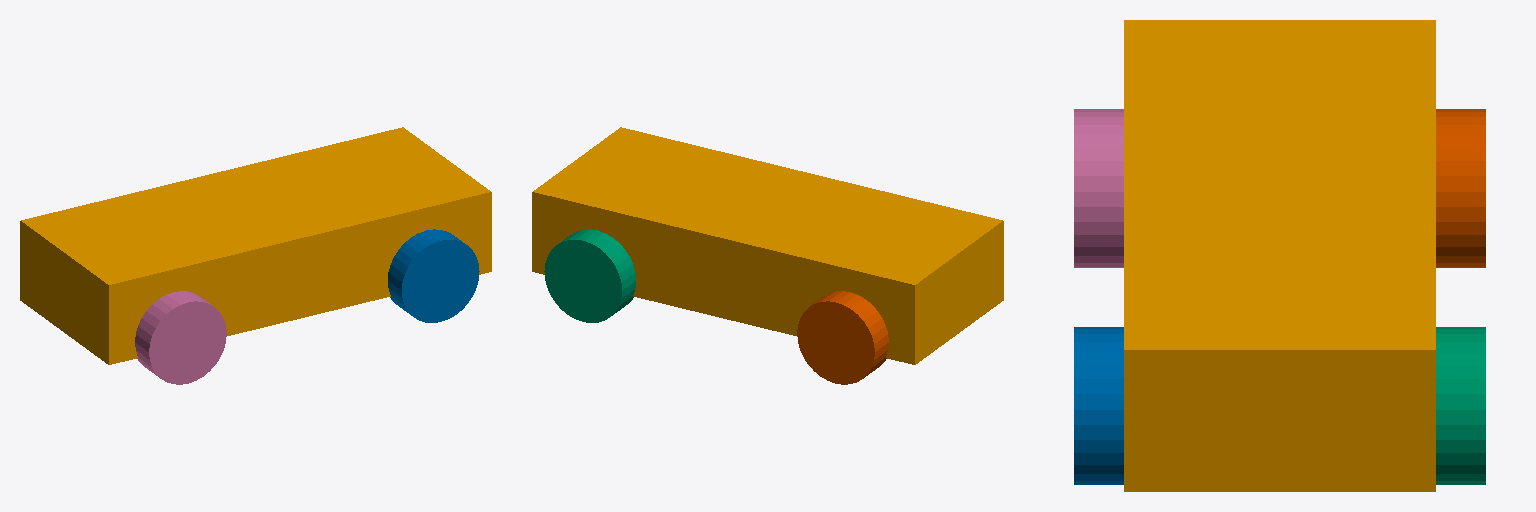
URDF robot description (racecar):
<?xml version="1.0" ?>
<robot name="racecar">
  <!-- GENERATED by tools/gen_racecar_urdf.py : do not edit by hand.
       Frame: REP-103 (+x forward, +y left). base_link = rear axle center at ground (z=0).
       Spawn base_link at z=0 and the wheels sit exactly on the ground.
       LiDAR is NOT a link: attach Isaac Lab RayCaster to base_link with
       offset=(0.27, 0.0, 0.11)  [stack_master/config/CAR/static_transforms.yaml].
       Steering hinges intentionally carry NO collision geometry : a knuckle
       must never generate contacts. Mass/inertia only.
       Tire friction is NOT in URDF. Set it in Isaac Lab RigidBodyMaterialCfg
       that is where the mu domain randomization goes. -->
  <link name="base_link">
    <inertial>
      <origin xyz="0.166888 0 0.076853" rpy="0 0 0"/>
      <mass value="3.090000"/>
      <inertia ixx="0.01091800" ixy="0" ixz="0" iyy="0.02605204" iyz="0" izz="0.03182004"/>
    </inertial>
    <visual>
      <origin xyz="0.165 0 0.08" rpy="0 0 0"/>
      <geometry>
        <box size="0.5 0.2 0.1"/>
      </geometry>
    </visual>
    <collision>
      <origin xyz="0.165 0 0.08" rpy="0 0 0"/>
      <geometry>
        <box size="0.5 0.2 0.1"/>
      </geometry>
    </collision>
  </link>
  <link name="front_left_hinge">
    <inertial>
      <origin xyz="0 0 0" rpy="0 0 0"/>
      <mass value="0.050000"/>
      <inertia ixx="0.00001333" ixy="0" ixz="0" iyy="0.00001333" iyz="0" izz="0.00001333"/>
    </inertial>
  </link>
  <joint name="front_left_hinge_joint" type="revolute">
    <parent link="base_link"/>
    <child link="front_left_hinge"/>
    <origin xyz="0.3302 0.112750 0.0508" rpy="0 0 0"/>
    <axis xyz="0 0 1"/>
    <limit lower="-0.4189" upper="0.4189" effort="5.0" velocity="3.2"/>
  </joint>
  <link name="front_left_wheel">
    <inertial>
      <origin xyz="0 0 0" rpy="0 0 0"/>
      <mass value="0.070000"/>
      <inertia ixx="0.00005363" ixy="0" ixz="0" iyy="0.00009032" iyz="0" izz="0.00005363"/>
    </inertial>
    <visual>
      <origin xyz="0 0 0" rpy="1.5707963 0 0"/>
      <geometry>
        <cylinder radius="0.0508" length="0.0381"/>
      </geometry>
    </visual>
    <collision>
      <origin xyz="0 0 0" rpy="1.5707963 0 0"/>
      <geometry>
        <cylinder radius="0.0508" length="0.0381"/>
      </geometry>
    </collision>
  </link>
  <joint name="front_left_wheel_joint" type="continuous">
    <parent link="front_left_hinge"/>
    <child link="front_left_wheel"/>
    <origin xyz="0.0 0.0 0.0" rpy="0 0 0"/>
    <axis xyz="0 1 0"/>
    <limit effort="1.257" velocity="196.85"/>
  </joint>
  <link name="front_right_hinge">
    <inertial>
      <origin xyz="0 0 0" rpy="0 0 0"/>
      <mass value="0.050000"/>
      <inertia ixx="0.00001333" ixy="0" ixz="0" iyy="0.00001333" iyz="0" izz="0.00001333"/>
    </inertial>
  </link>
  <joint name="front_right_hinge_joint" type="revolute">
    <parent link="base_link"/>
    <child link="front_right_hinge"/>
    <origin xyz="0.3302 -0.112750 0.0508" rpy="0 0 0"/>
    <axis xyz="0 0 1"/>
    <limit lower="-0.4189" upper="0.4189" effort="5.0" velocity="3.2"/>
  </joint>
  <link name="front_right_wheel">
    <inertial>
      <origin xyz="0 0 0" rpy="0 0 0"/>
      <mass value="0.070000"/>
      <inertia ixx="0.00005363" ixy="0" ixz="0" iyy="0.00009032" iyz="0" izz="0.00005363"/>
    </inertial>
    <visual>
      <origin xyz="0 0 0" rpy="1.5707963 0 0"/>
      <geometry>
        <cylinder radius="0.0508" length="0.0381"/>
      </geometry>
    </visual>
    <collision>
      <origin xyz="0 0 0" rpy="1.5707963 0 0"/>
      <geometry>
        <cylinder radius="0.0508" length="0.0381"/>
      </geometry>
    </collision>
  </link>
  <joint name="front_right_wheel_joint" type="continuous">
    <parent link="front_right_hinge"/>
    <child link="front_right_wheel"/>
    <origin xyz="0.0 0.0 0.0" rpy="0 0 0"/>
    <axis xyz="0 1 0"/>
    <limit effort="1.257" velocity="196.85"/>
  </joint>
  <link name="rear_left_wheel">
    <inertial>
      <origin xyz="0 0 0" rpy="0 0 0"/>
      <mass value="0.070000"/>
      <inertia ixx="0.00005363" ixy="0" ixz="0" iyy="0.00009032" iyz="0" izz="0.00005363"/>
    </inertial>
    <visual>
      <origin xyz="0 0 0" rpy="1.5707963 0 0"/>
      <geometry>
        <cylinder radius="0.0508" length="0.0381"/>
      </geometry>
    </visual>
    <collision>
      <origin xyz="0 0 0" rpy="1.5707963 0 0"/>
      <geometry>
        <cylinder radius="0.0508" length="0.0381"/>
      </geometry>
    </collision>
  </link>
  <joint name="rear_left_wheel_joint" type="continuous">
    <parent link="base_link"/>
    <child link="rear_left_wheel"/>
    <origin xyz="0.0 0.11275 0.0508" rpy="0 0 0"/>
    <axis xyz="0 1 0"/>
    <limit effort="1.257" velocity="196.85"/>
  </joint>
  <link name="rear_right_wheel">
    <inertial>
      <origin xyz="0 0 0" rpy="0 0 0"/>
      <mass value="0.070000"/>
      <inertia ixx="0.00005363" ixy="0" ixz="0" iyy="0.00009032" iyz="0" izz="0.00005363"/>
    </inertial>
    <visual>
      <origin xyz="0 0 0" rpy="1.5707963 0 0"/>
      <geometry>
        <cylinder radius="0.0508" length="0.0381"/>
      </geometry>
    </visual>
    <collision>
      <origin xyz="0 0 0" rpy="1.5707963 0 0"/>
      <geometry>
        <cylinder radius="0.0508" length="0.0381"/>
      </geometry>
    </collision>
  </link>
  <joint name="rear_right_wheel_joint" type="continuous">
    <parent link="base_link"/>
    <child link="rear_right_wheel"/>
    <origin xyz="0.0 -0.11275 0.0508" rpy="0 0 0"/>
    <axis xyz="0 1 0"/>
    <limit effort="1.257" velocity="196.85"/>
  </joint>
</robot>

--- Facts derived from the render (not from the file) ---
Views: 3 orthographic renders of the robot side by side, from view 1: azimuth 30°, elevation 25°; view 2: azimuth 150°, elevation 25°; view 3: azimuth 270°, elevation 25°.
Model racecar with 7 links and 6 joints (2 revolute, 4 continuous), rooted at base_link, posed every joint at zero.
Links seen in each view (by area): view 1: base_link, front_right_wheel, rear_right_wheel; view 2: base_link, front_left_wheel, rear_left_wheel; view 3: base_link, rear_left_wheel, rear_right_wheel, front_left_wheel, front_right_wheel.
Boxes of the visible links, box(x1,y1,x2,y2) form: base_link: box(20, 127, 491, 364); front_right_wheel: box(388, 229, 479, 322); rear_right_wheel: box(135, 291, 226, 384); base_link: box(532, 127, 1003, 364); front_left_wheel: box(544, 229, 635, 322); rear_left_wheel: box(797, 291, 888, 384); base_link: box(1124, 20, 1435, 491); rear_left_wheel: box(1436, 109, 1485, 267); rear_right_wheel: box(1074, 109, 1123, 267); front_left_wheel: box(1436, 327, 1485, 484); front_right_wheel: box(1074, 327, 1123, 484).
Size in the robot's own frame: 0.5 by 0.2636 by 0.13 metres.
Geometry: primitives only (box / cylinder / sphere), no mesh files.
